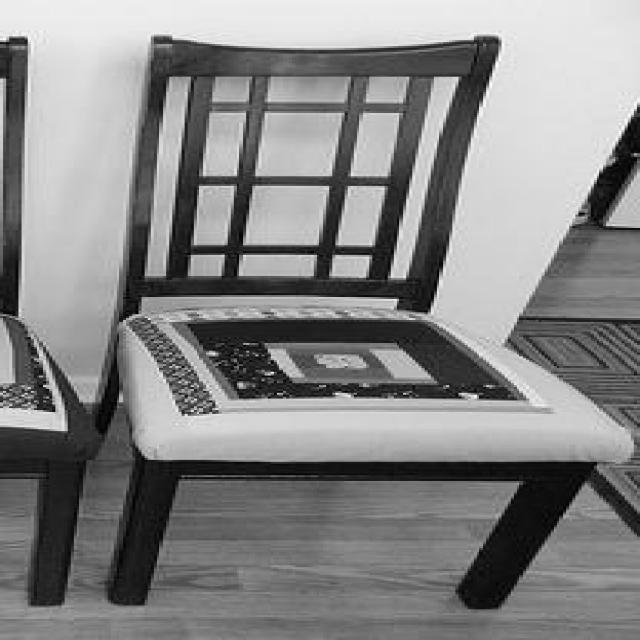chair: (74, 31, 636, 608)
